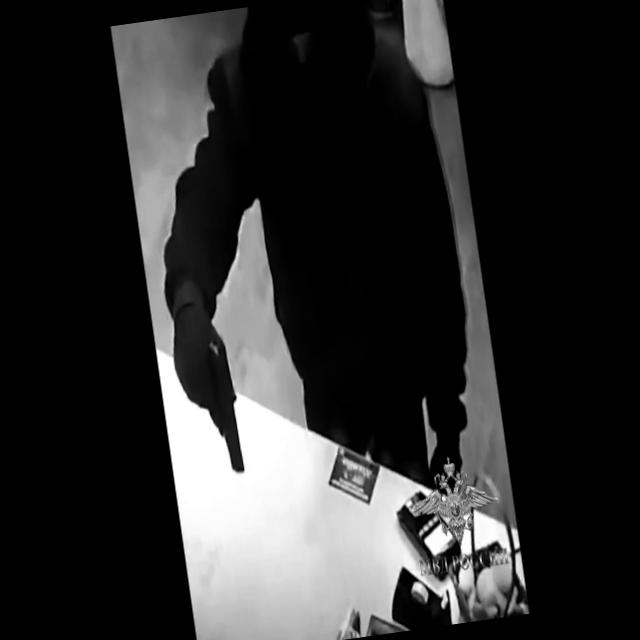gun: (170, 318, 248, 477)
person with a gun: (129, 0, 482, 508)
